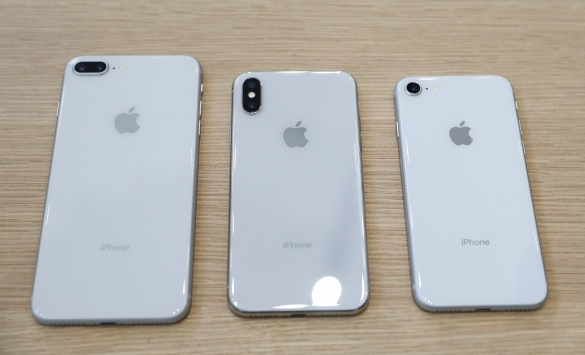apple: (102, 105, 170, 149), (445, 117, 478, 155), (277, 118, 314, 151)
